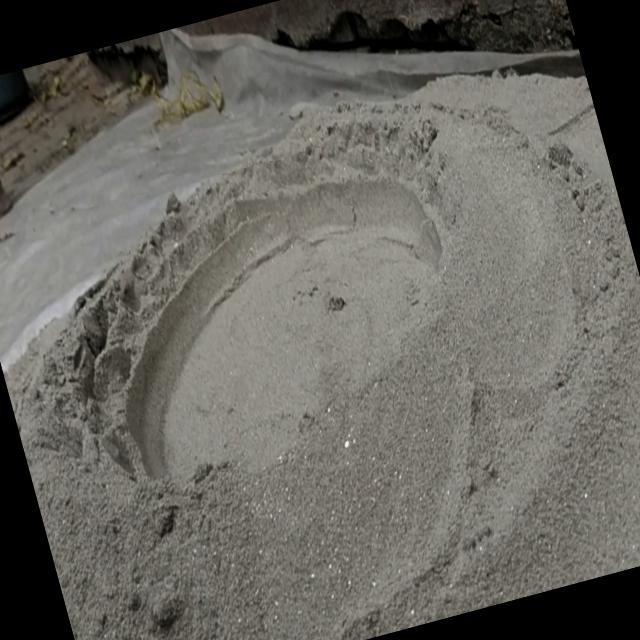C40: (124, 137, 442, 479)
